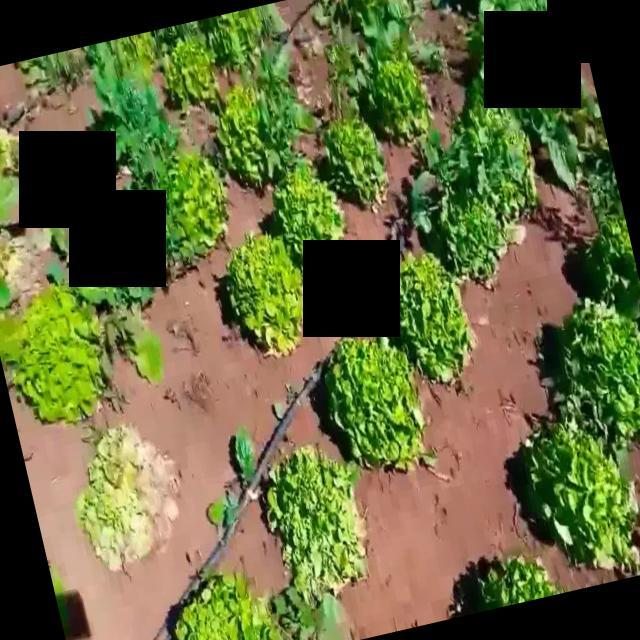Lettuce: (517, 424, 640, 572), (76, 423, 186, 573), (260, 445, 366, 593), (0, 283, 107, 423), (319, 336, 424, 471), (556, 294, 640, 440), (224, 232, 304, 356), (398, 252, 472, 382), (166, 571, 294, 640), (463, 105, 539, 204), (270, 160, 344, 258), (162, 154, 228, 258), (215, 86, 279, 188), (363, 51, 430, 142), (322, 113, 385, 206), (442, 199, 508, 279), (150, 37, 222, 109), (473, 554, 557, 609)
